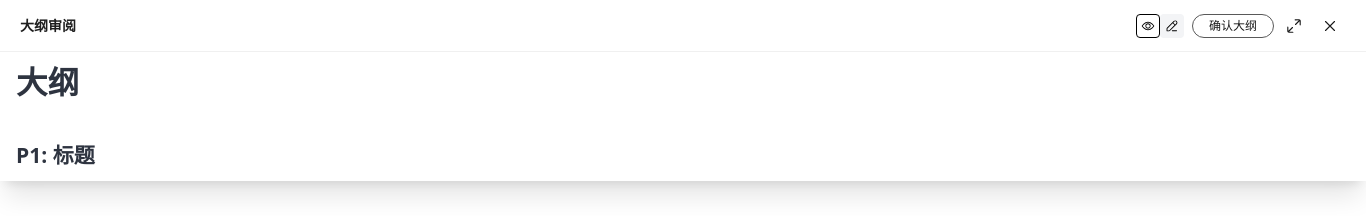
Test case: OutlinePreviewPanel › confirm flow › shows disabled "已确认" button after confirm
The image size is (1366, 216).
Click the button with test id "outline-preview-panel-confirm" at (1233,26), box [1192,14,1274,38]
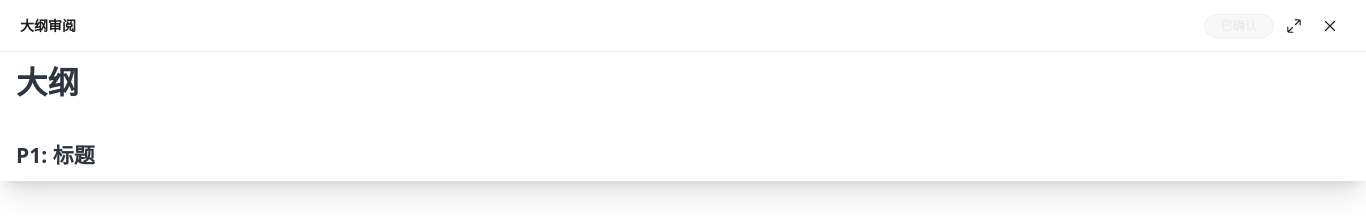
Result: the button "已确认" is shown at [1204,14,1274,38]
